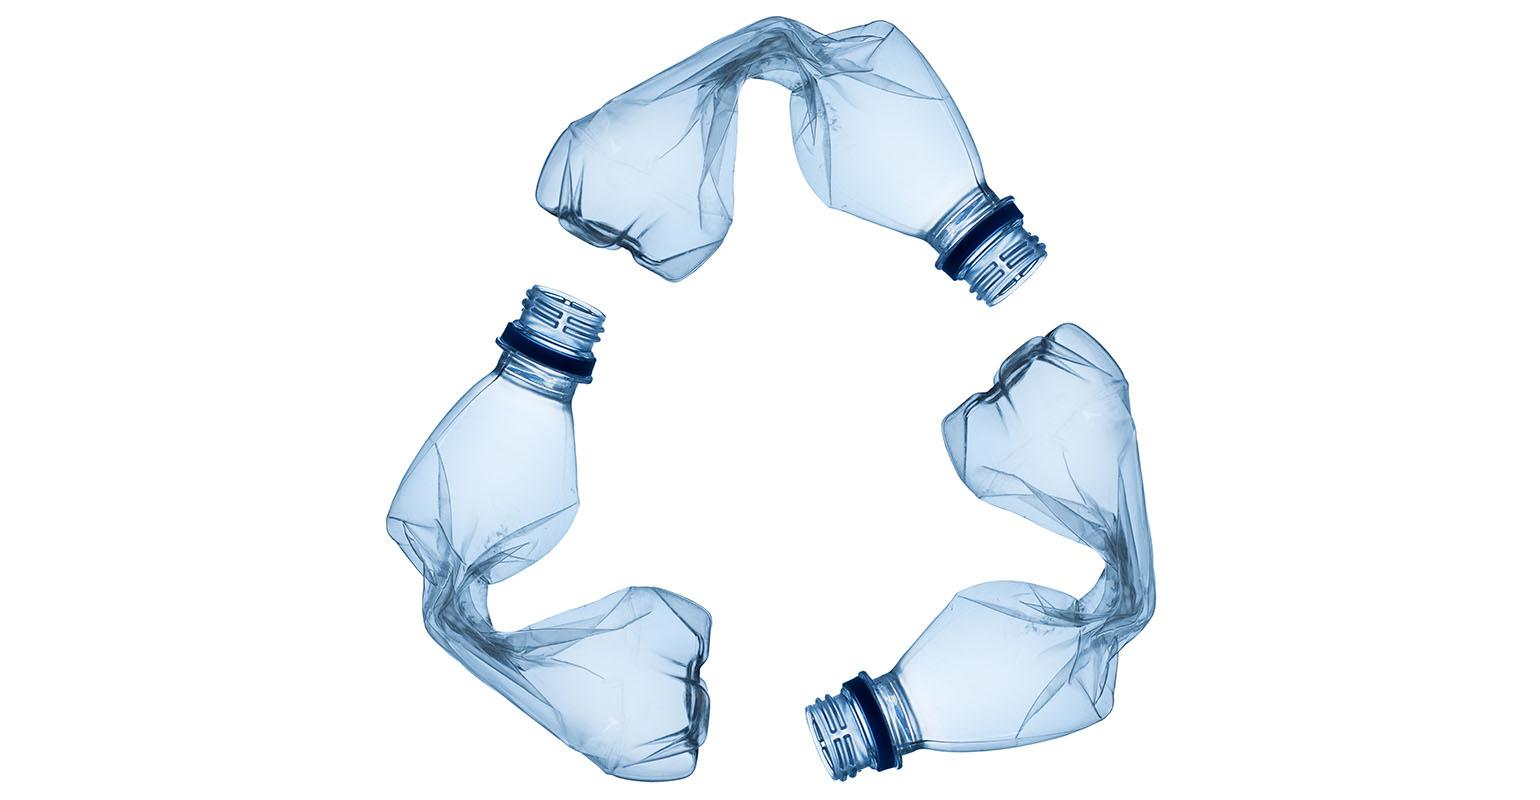plastic_bottle: (685, 157, 1332, 800), (324, 228, 773, 800), (471, 1, 1216, 325)
